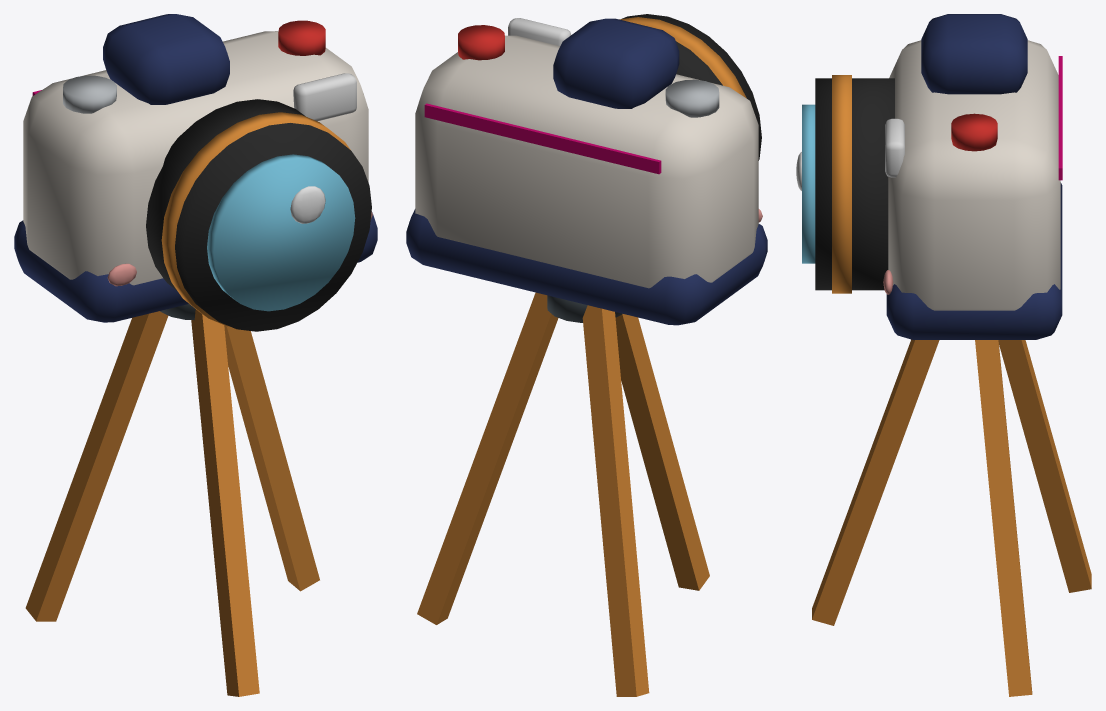
The model's file is camera.glb.
3 views of the same model, side by side, from view 1: azimuth 30°, elevation 25°; view 2: azimuth 150°, elevation 25°; view 3: azimuth 270°, elevation 25° (orthographic). The views are drawn at different scales.
Parts seen in each view (by area): view 1: camera; view 2: camera; view 3: camera.
Part boxes in pixels (box(x1,y1,x2,y2)): camera: box(14, 14, 377, 696); camera: box(406, 14, 767, 696); camera: box(796, 14, 1091, 696).
Bounding box in the file's own units: 0.5 × 0.9926 × 0.446.
